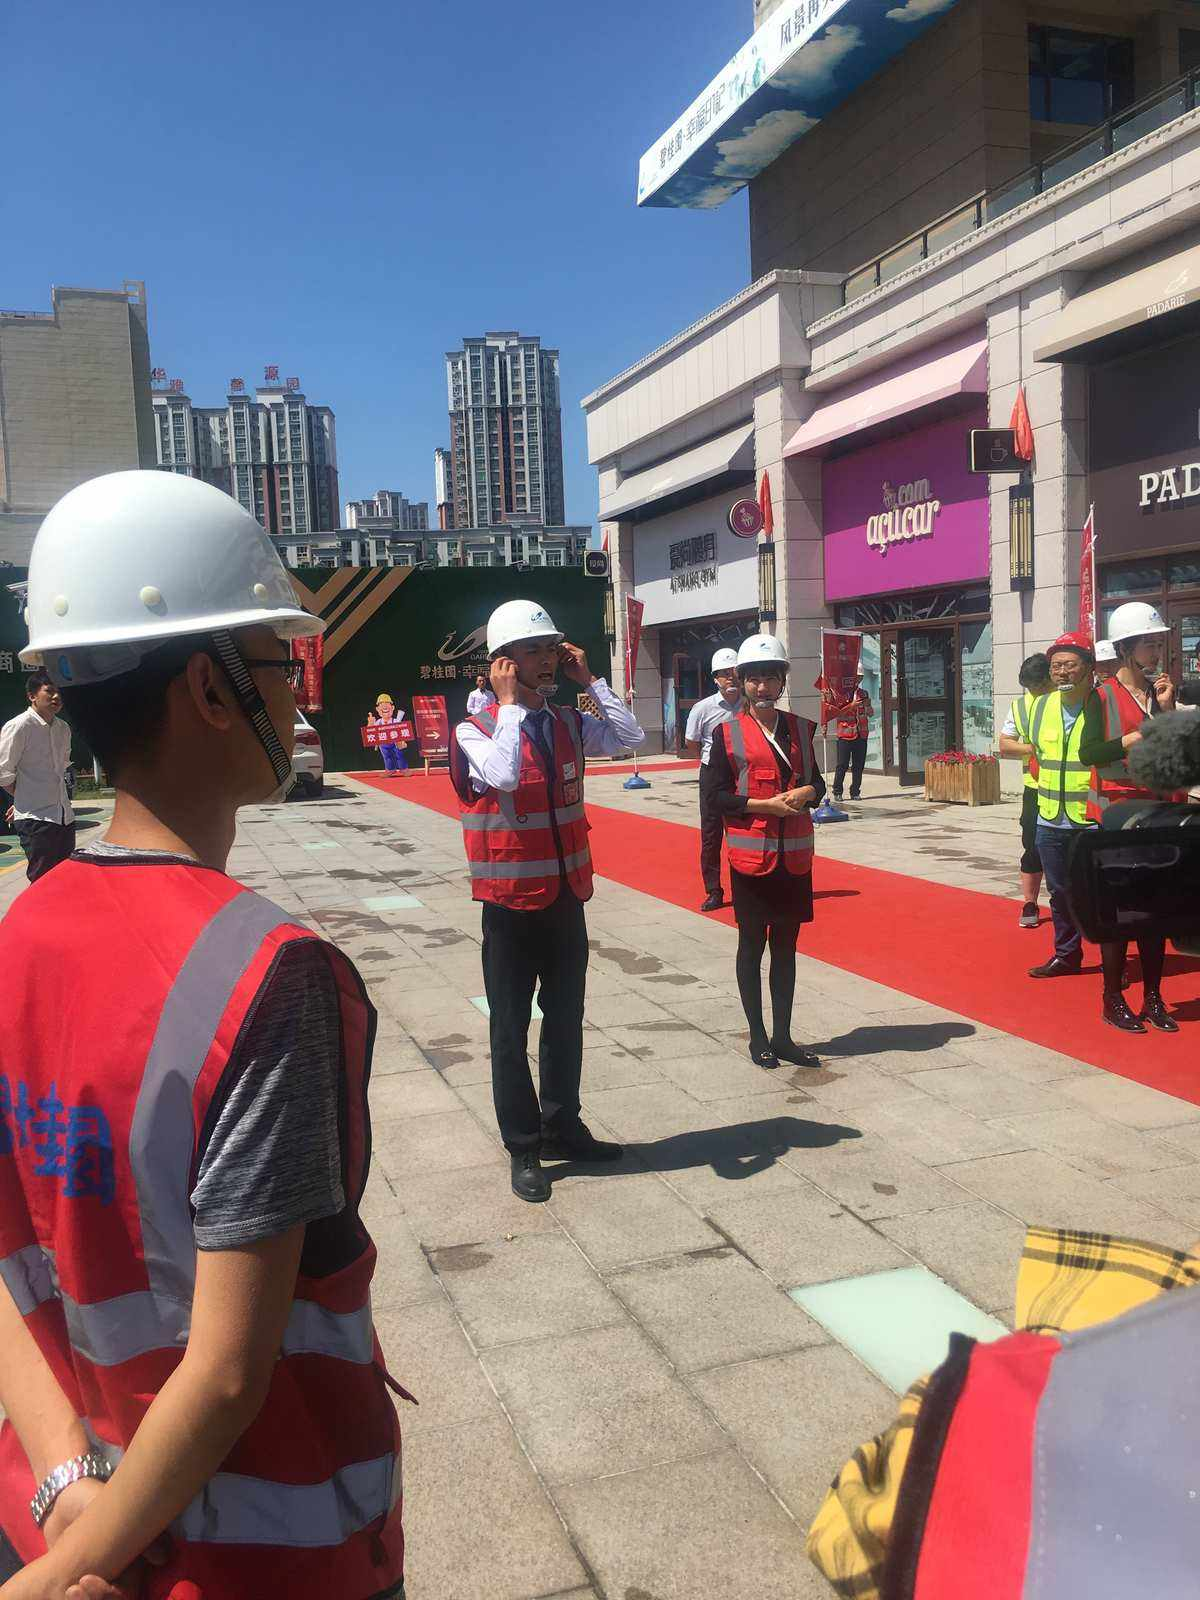head: (25, 668, 64, 719), (1018, 649, 1057, 698)
ordinary_clothes: (1, 707, 75, 827), (685, 692, 750, 766), (466, 688, 495, 717)
person: (1, 466, 417, 1600), (447, 597, 647, 1234), (705, 629, 830, 1071), (1080, 595, 1189, 1034), (1022, 630, 1108, 987), (682, 644, 741, 913), (1, 674, 74, 888), (831, 661, 875, 802)
reflective_vest: (1, 849, 416, 1600), (447, 702, 596, 914), (718, 709, 817, 879), (1082, 676, 1190, 823), (1026, 688, 1090, 828), (835, 688, 869, 741)
safety_helmet: (14, 465, 328, 823), (483, 598, 564, 699), (1105, 597, 1173, 677), (734, 628, 794, 708), (1045, 632, 1099, 696), (707, 642, 738, 695)
